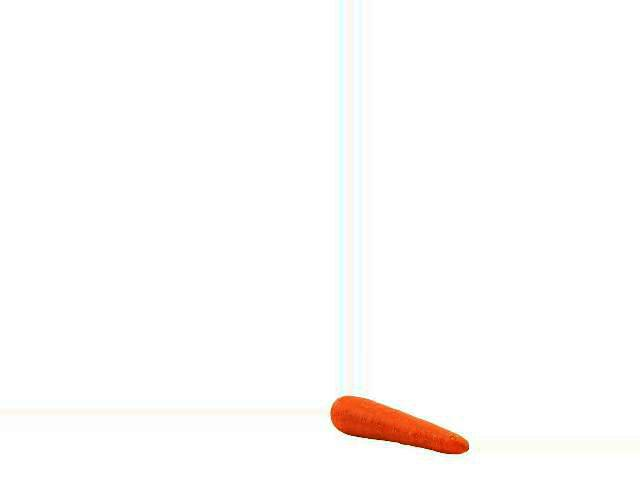carrot: (329, 396, 468, 457)
